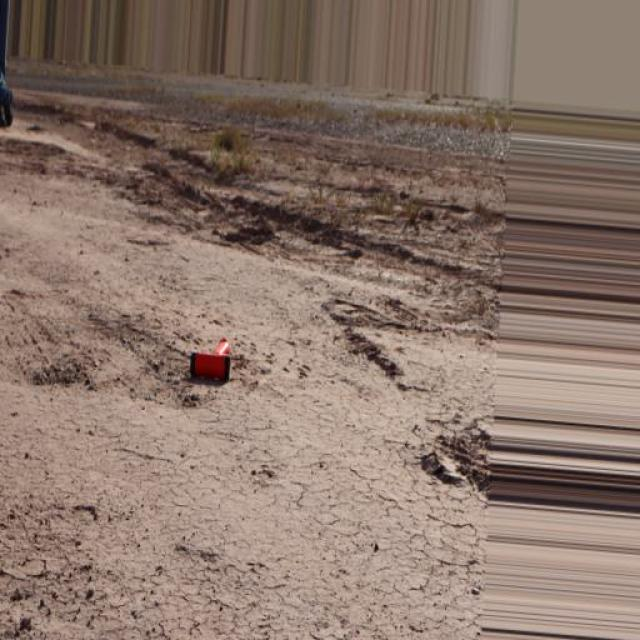mallet: (188, 337, 232, 382)
